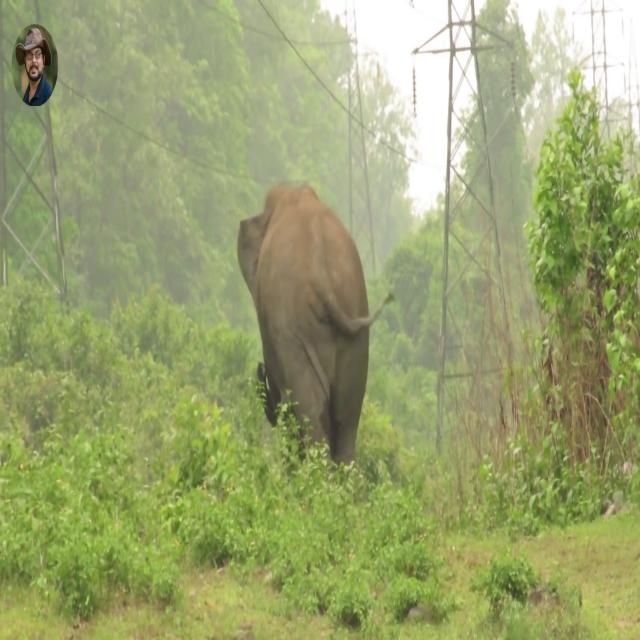Elephant: (236, 180, 394, 470)
